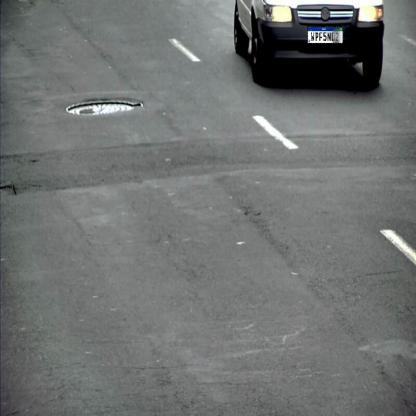PlacaM: (308, 26, 344, 44)
